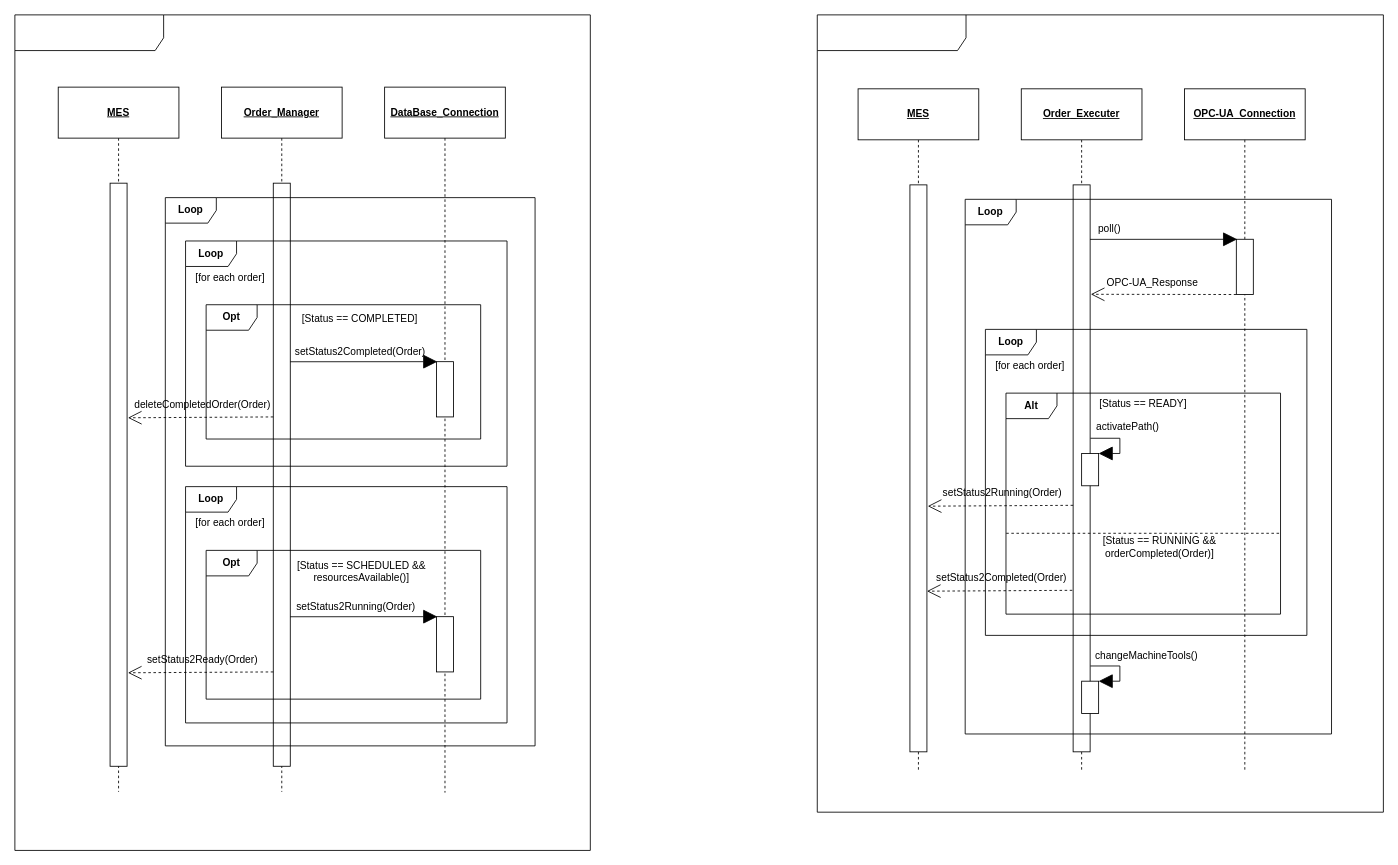
Some shapes in this 1398 by 865 pixel diagram are drawn without their labels. Here are the shapes that lost their labels. From the top down, the centre of each, then its label:
At [302,432]: "sd Order_Manager_Thread".
At [1099,413]: "sd Order_Executer_Thread".
